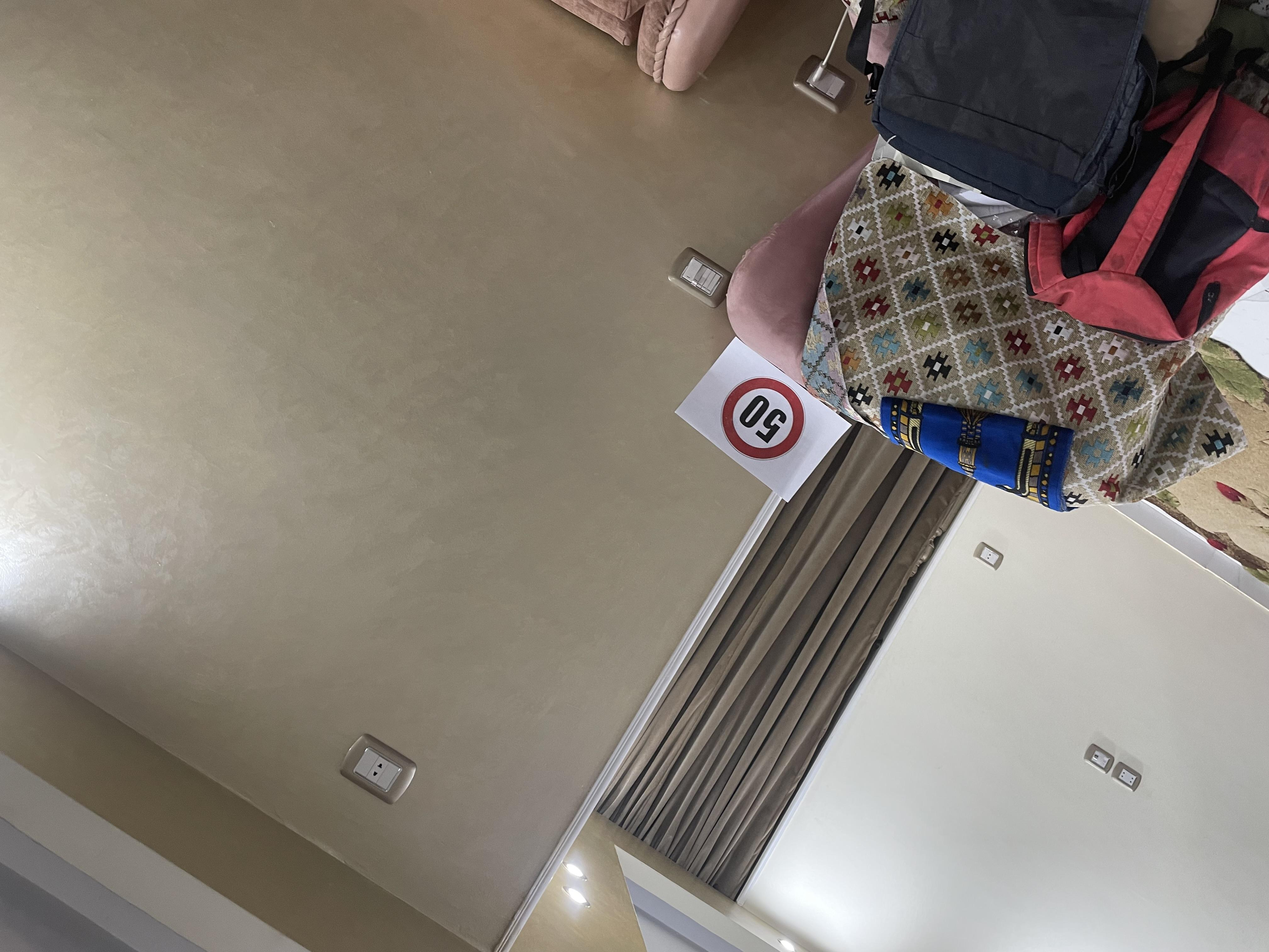50-Speed: (655, 540, 770, 604)
